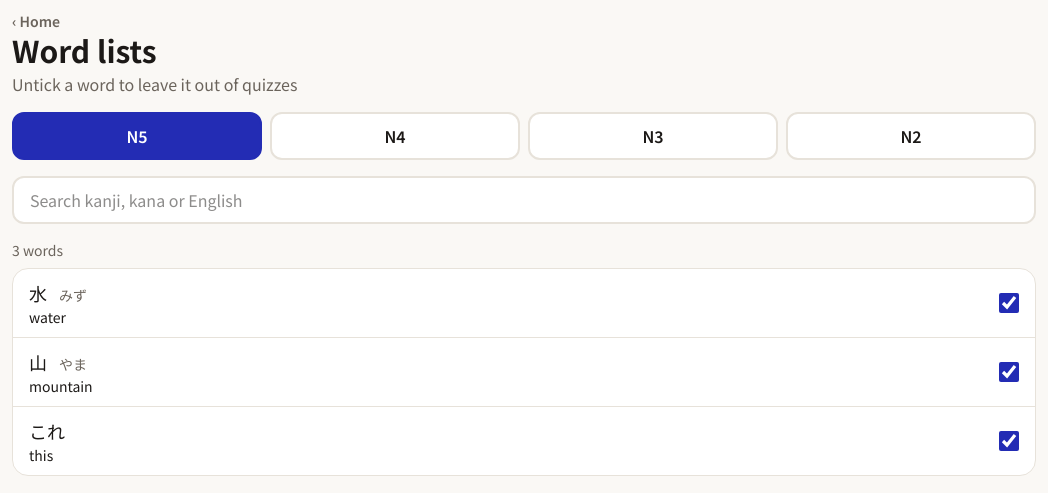
Test case: WordLists › filters by kanji, kana or meaning
The width and height of the screenshot is (1048, 493).
In the search field named "Search words": (524, 200) [12,176,1036,224], type "MOUNT"
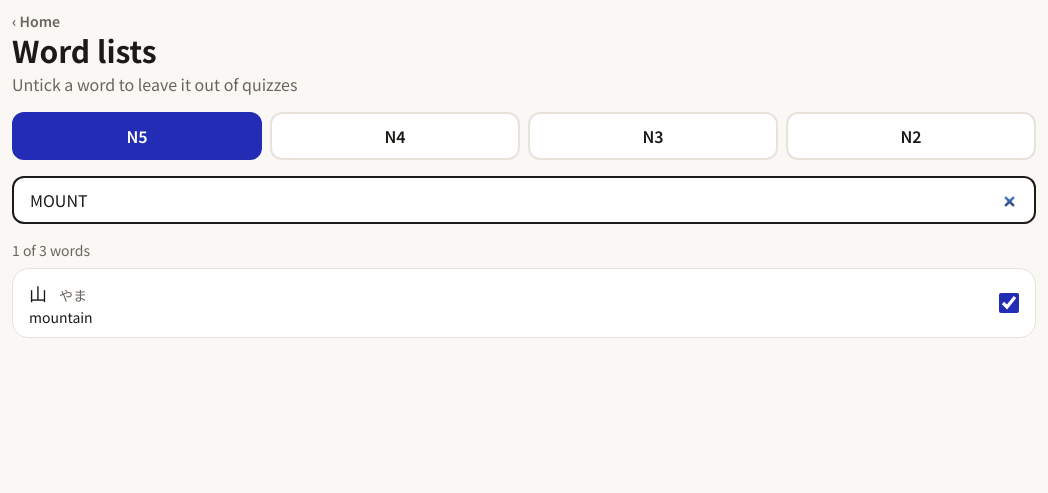
Check: the text "山" is shown, box [29,279,47,307]
Check: the text "1 of 3 words" is shown, box [12,240,90,260]
Check: the text "水" is gone
Replace the text in the search field named "Search words" with "みず": (524, 200) [12,176,1036,224]
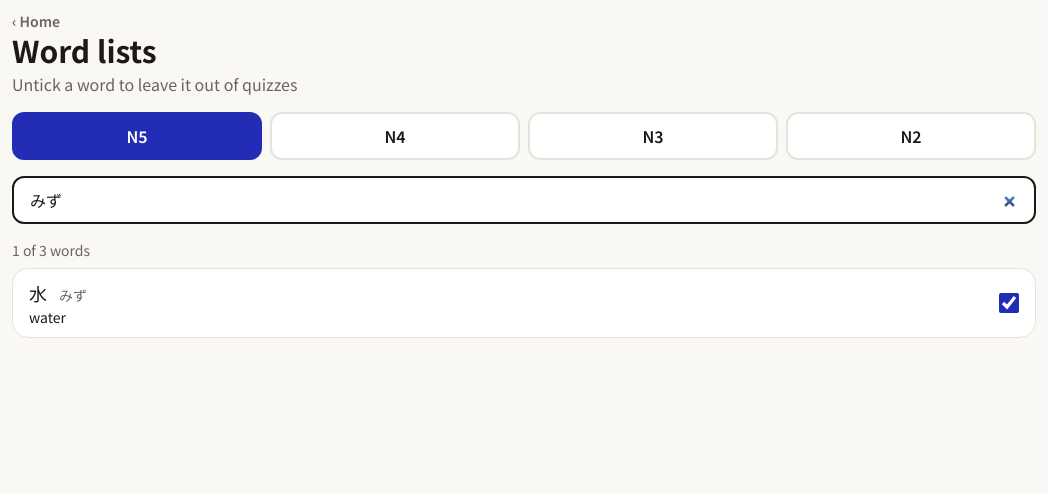
Check: the text "1 of 3 words" is shown, box [12,240,90,260]
Check: the text "水" is shown, box [29,279,47,307]
Replace the text in the search field named "Search words" with "zzz": (524, 200) [12,176,1036,224]
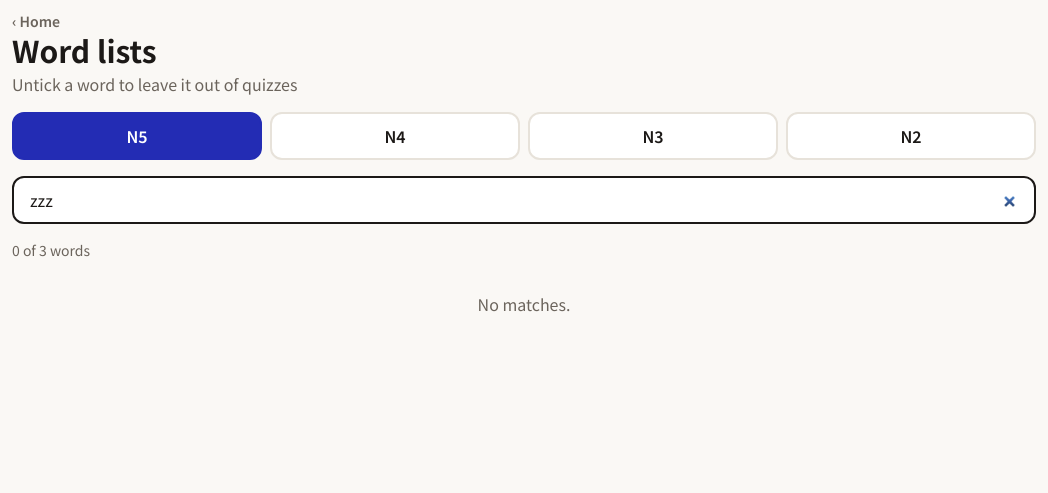
Check: the text "No matches." is shown, box [478,292,570,316]
